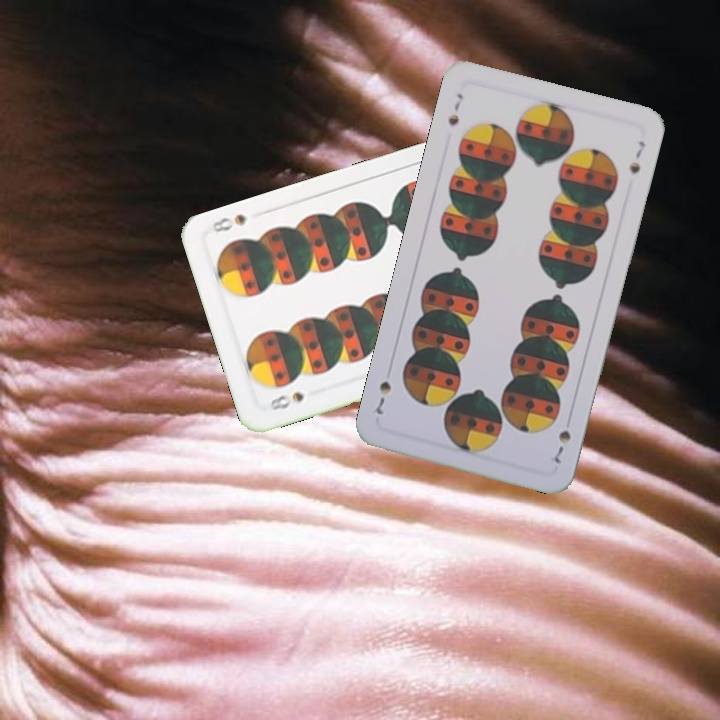S7: (546, 426, 574, 469), (444, 89, 467, 129)
S8: (266, 388, 307, 413)
